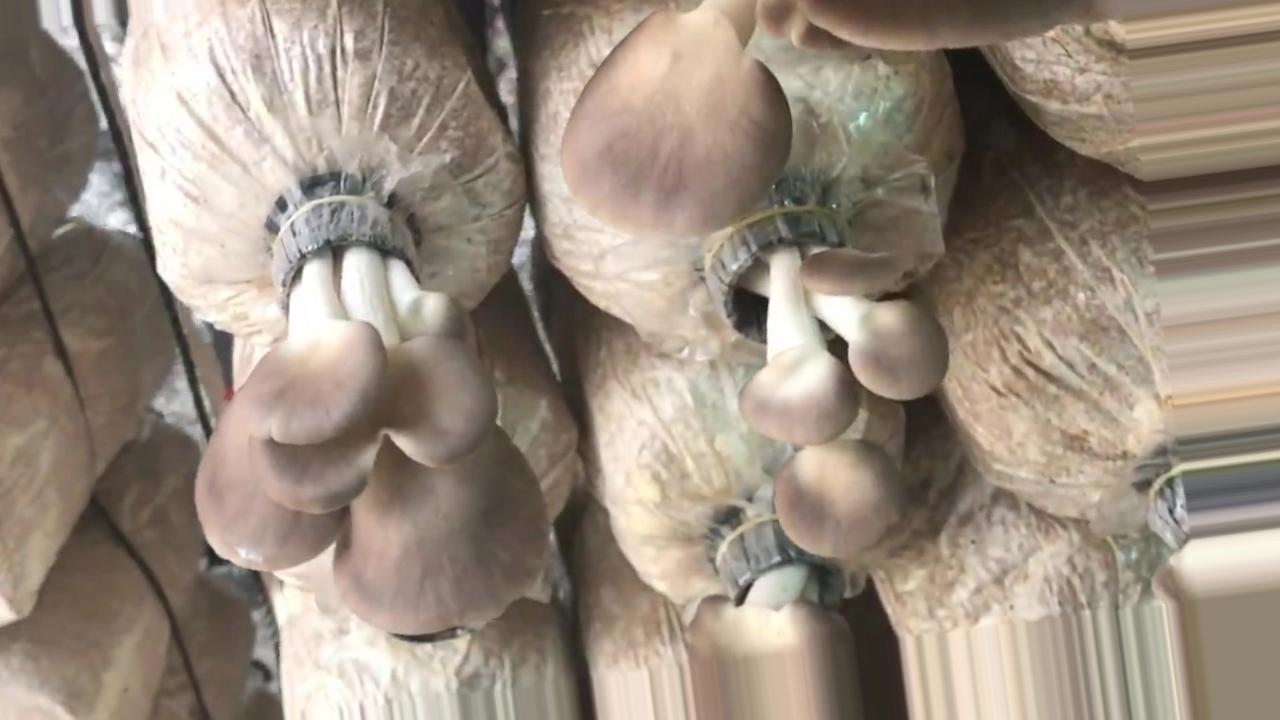nam: (192, 199, 545, 635), (560, 1, 1109, 235), (702, 209, 950, 555), (696, 521, 856, 720)
